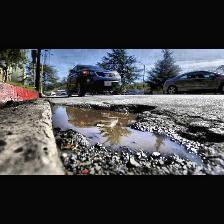pothole: (47, 102, 222, 174)
